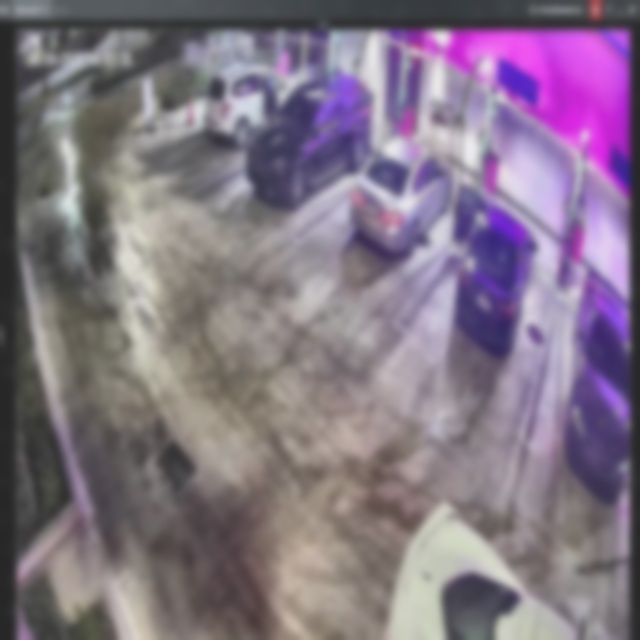Car: (245, 70, 372, 207), (454, 182, 538, 354), (351, 138, 452, 252), (205, 61, 299, 147)
